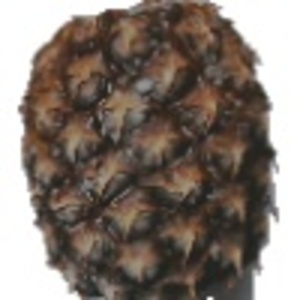abacaxi: (15, 4, 280, 297)
